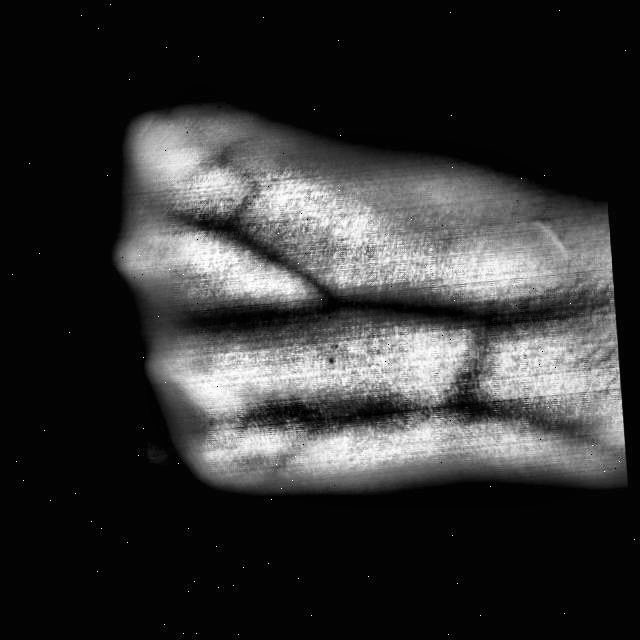Vein: (340, 293, 506, 331)
